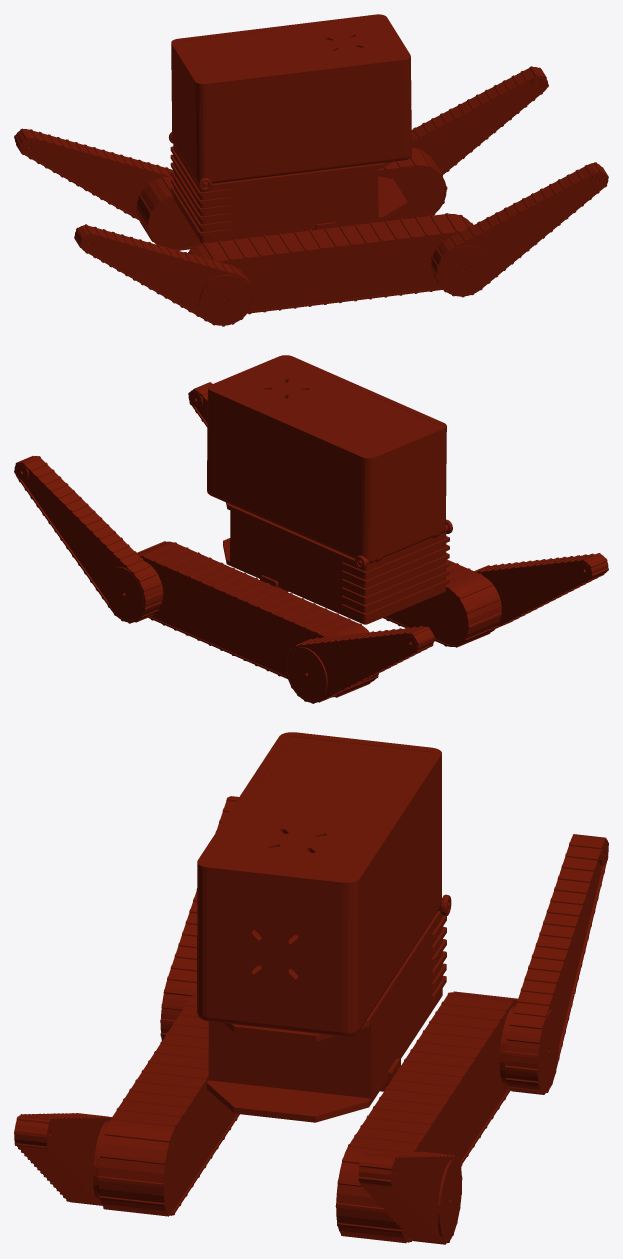
The model's file is rover3.dae.
The picture shows the model from 3 angles, top to bottom: view 1: azimuth 30°, elevation 25°; view 2: azimuth 150°, elevation 25°; view 3: azimuth 270°, elevation 25°; orthographic projection. The views are drawn at different scales.
Visible parts, largest first — view 1: node; view 2: node; view 3: node.
Boxes of the visible parts, x1=… form: node: x1=14, y1=14, x2=608, y2=326; node: x1=14, y1=355, x2=608, y2=703; node: x1=14, y1=732, x2=608, y2=1244.
Bounding box in the file's own units: 1.9 × 1.25 × 0.7636.
